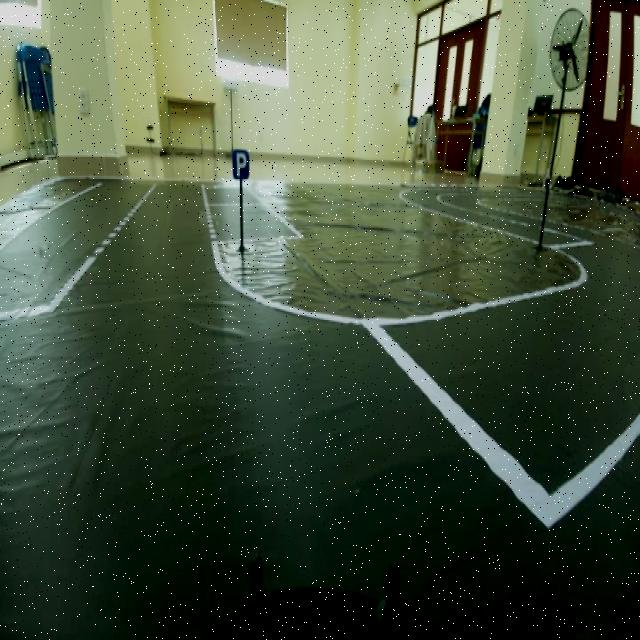parking: (227, 140, 254, 186)
